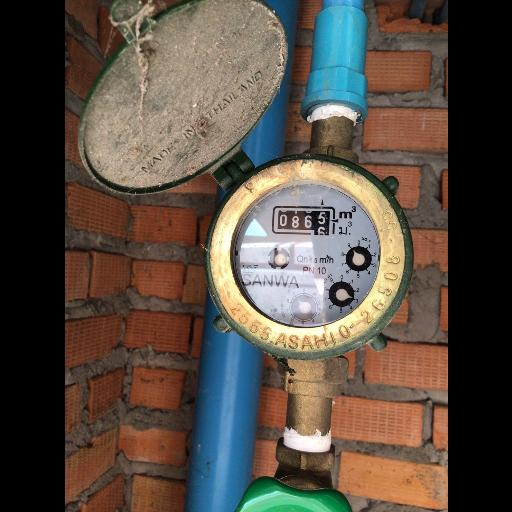0: (277, 210, 290, 231)
5: (314, 211, 330, 236)
6: (300, 210, 315, 230)
8: (289, 210, 301, 230)
border_water_meter_number: (271, 204, 335, 236)
